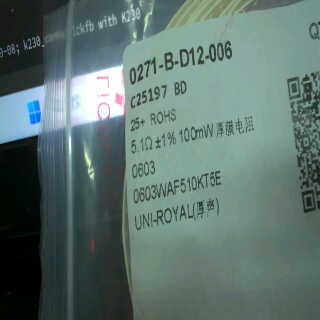5.1R: (124, 130, 155, 156)
